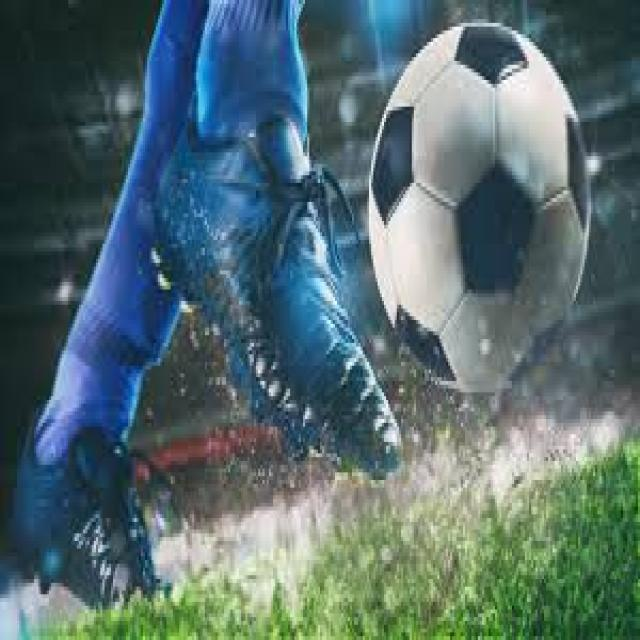ball: (367, 20, 593, 397)
